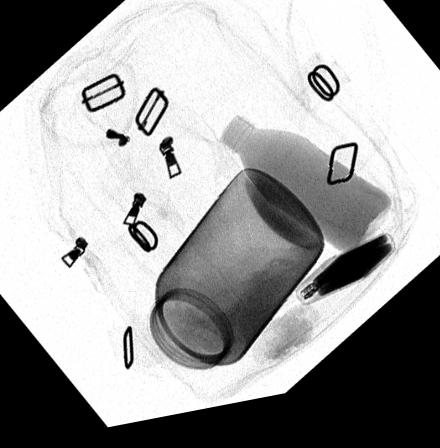Powerbank: (293, 246, 396, 317)
